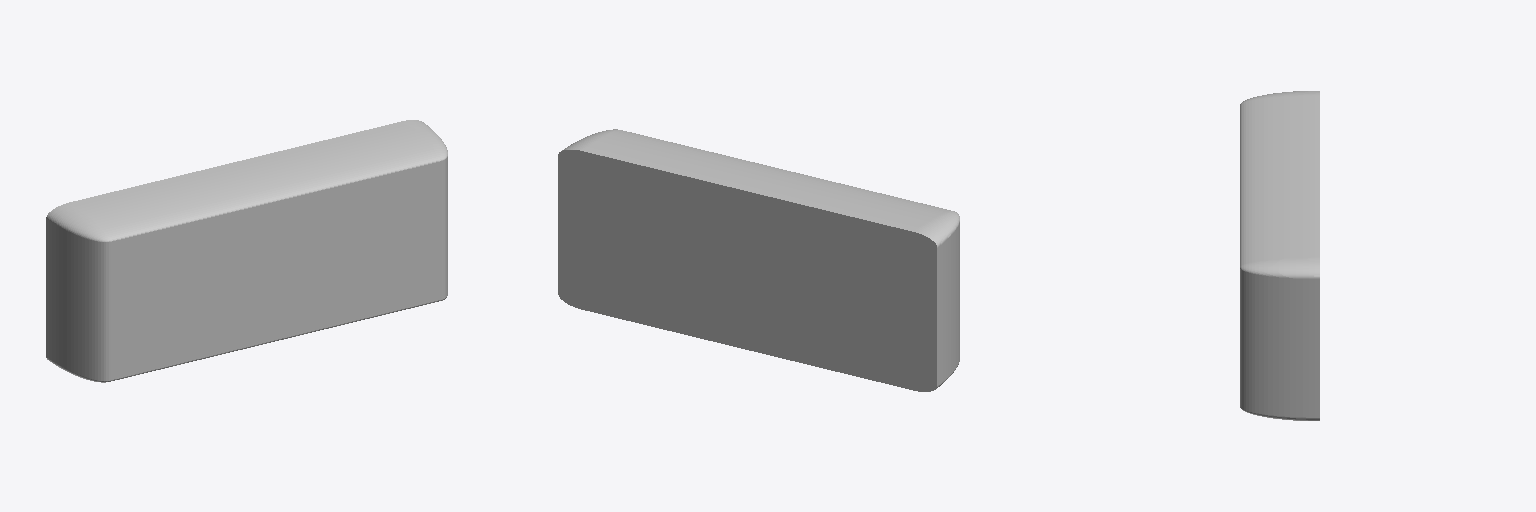
The model's file is Ingot.obj.
The picture shows the model from 3 angles: view 1: azimuth 30°, elevation 25°; view 2: azimuth 150°, elevation 25°; view 3: azimuth 270°, elevation 25°; orthographic projection.
Parts seen in each view (by area): view 1: obj_0; view 2: obj_0; view 3: obj_0.
Part boxes in pixels (bbox=[...]): obj_0: bbox=[46, 120, 447, 382]; obj_0: bbox=[558, 129, 959, 391]; obj_0: bbox=[1240, 91, 1319, 420].
Bounding box in the file's own units: 54.18 × 21.67 × 10.